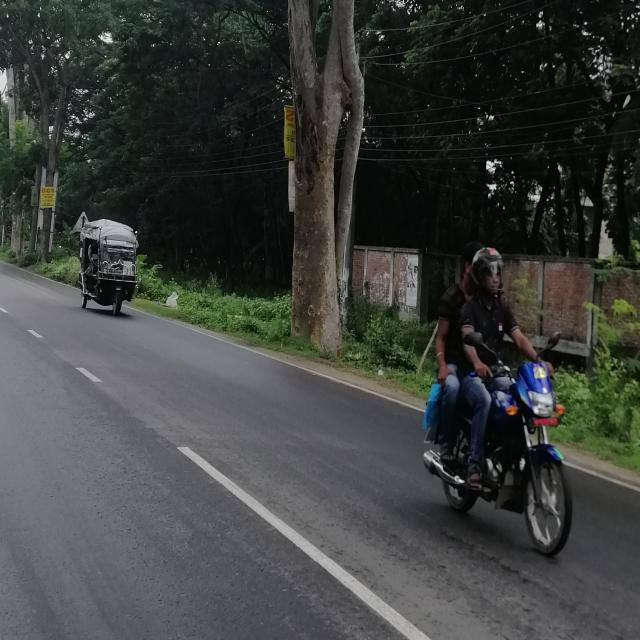Motorbike: (405, 326, 601, 580)
